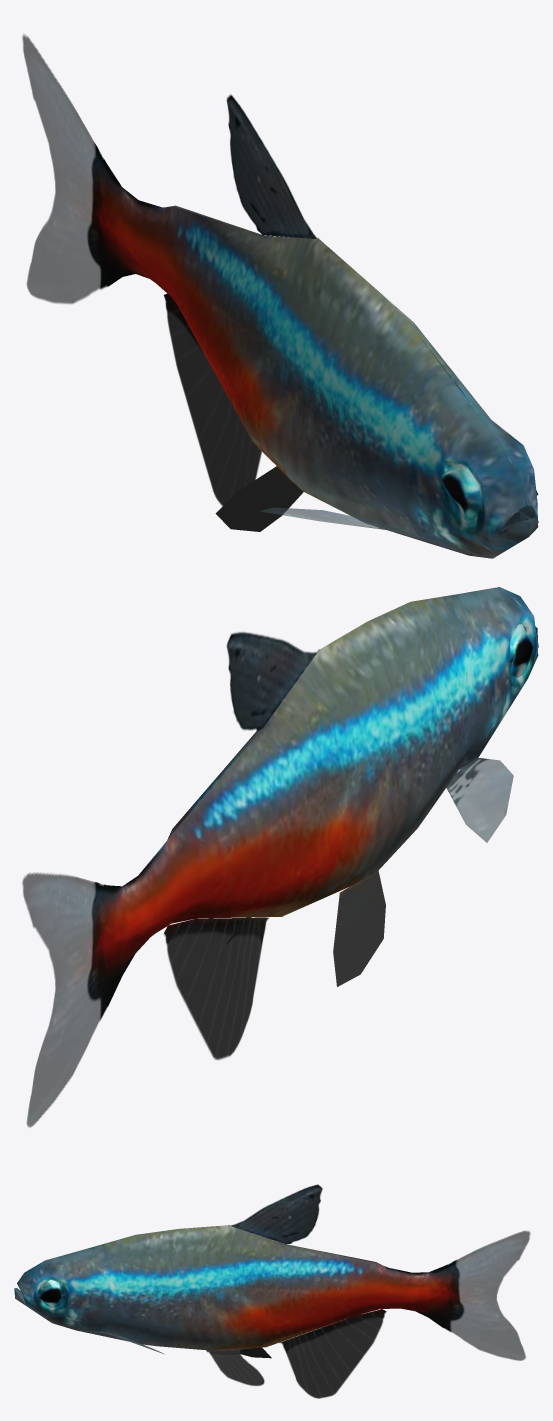
File: peixe-neon.glb
3 views of the same model, one above another, from view 1: azimuth 30°, elevation 25°; view 2: azimuth 150°, elevation 25°; view 3: azimuth 270°, elevation 25° (orthographic). The views are drawn at different scales.
Visible parts, largest first — view 1: peixe-neon; view 2: peixe-neon; view 3: peixe-neon.
Part boxes in pixels (x1,y1,x2,y2): peixe-neon: (22,34,538,558); peixe-neon: (22,587,538,1127); peixe-neon: (14,1184,530,1398).
Bounding box in the file's own units: 0.0425 × 0.08 × 0.1629.
1 material, 1 textured.
